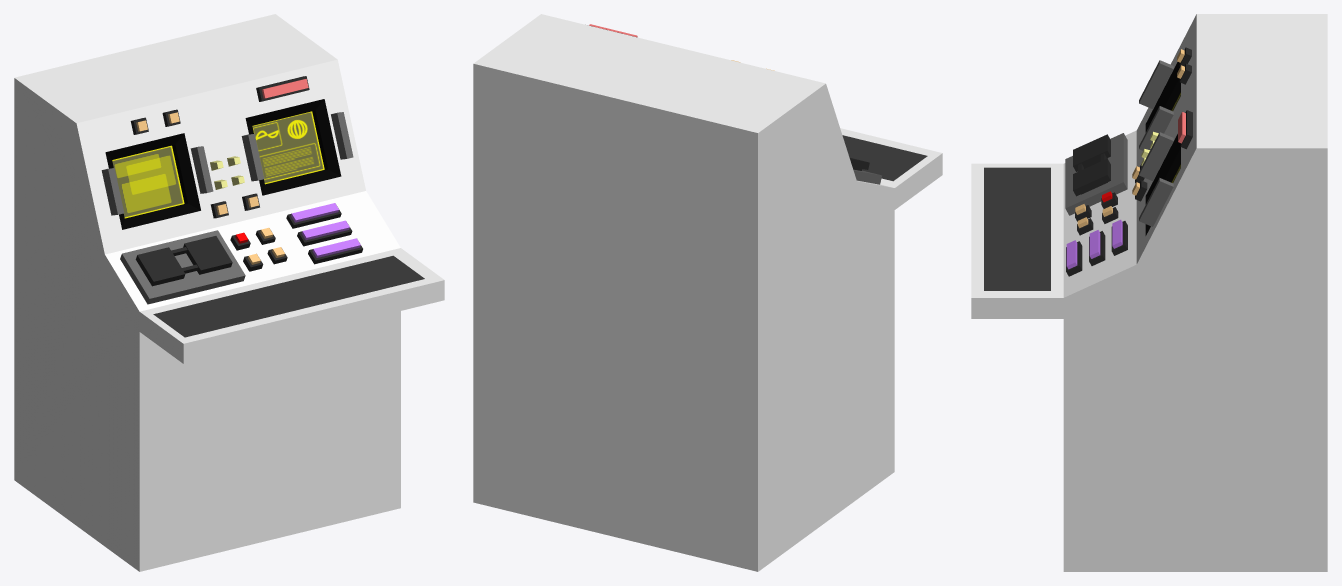
Rendered from BridgeComp_01.fbx.
3 views of the same model, side by side, from view 1: azimuth 30°, elevation 25°; view 2: azimuth 150°, elevation 25°; view 3: azimuth 270°, elevation 25° (orthographic). The views are drawn at different scales.
Parts seen in each view (by area): view 1: BridgeComp_01; view 2: BridgeComp_01; view 3: BridgeComp_01.
Part boxes in pixels (x1,y1,x2,y2): BridgeComp_01: [14, 14, 444, 571]; BridgeComp_01: [473, 14, 942, 571]; BridgeComp_01: [971, 14, 1327, 571].
Size of the model in its own units: 262 by 385 by 294.
